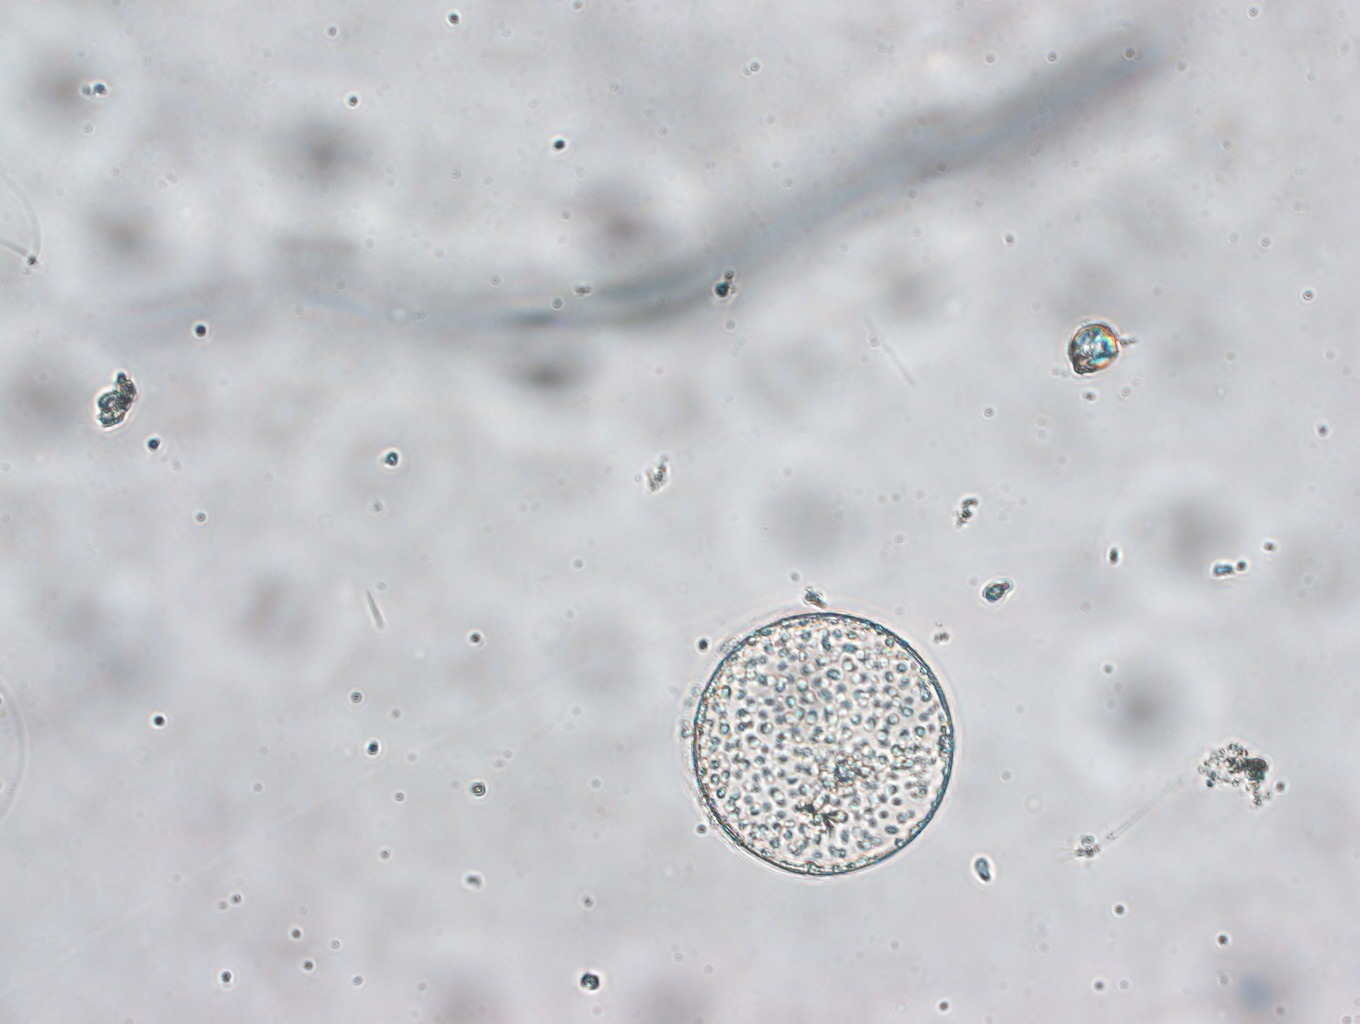coscinodiscus: (690, 605, 962, 882)
